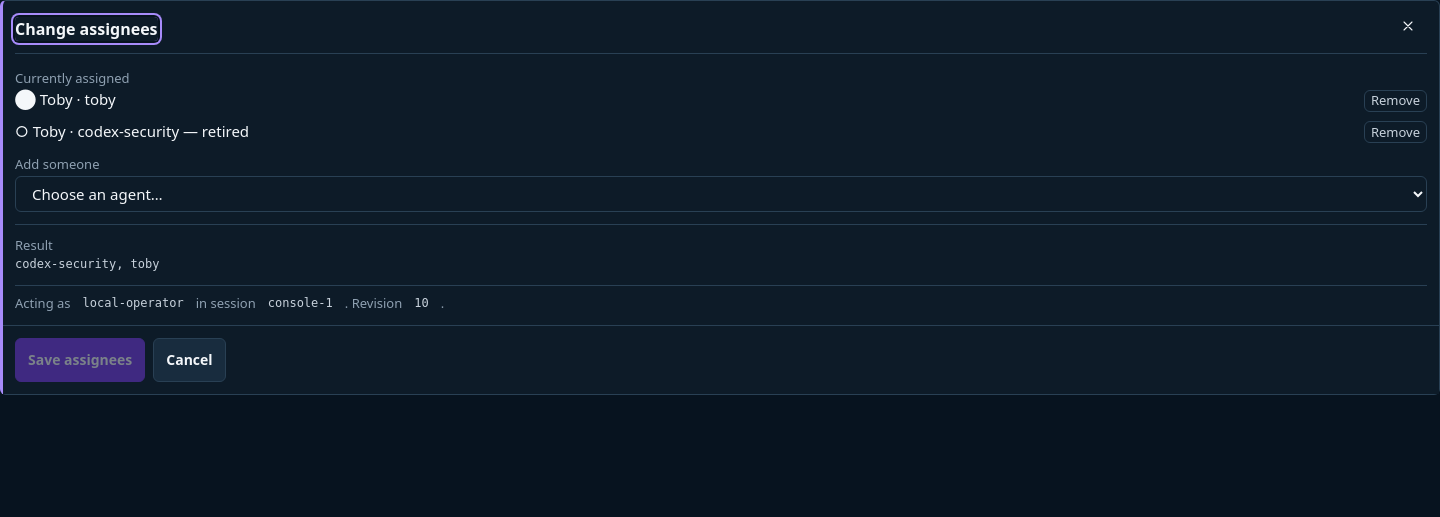
Test: AssigneeEditor — clause 6, errors › preserves the draft and offers Reload latest on a stale revision
Click the button "Remove" in the row of "Toby · codex-security — retired".
click(1395, 132)  # box [1364,121,1427,143]
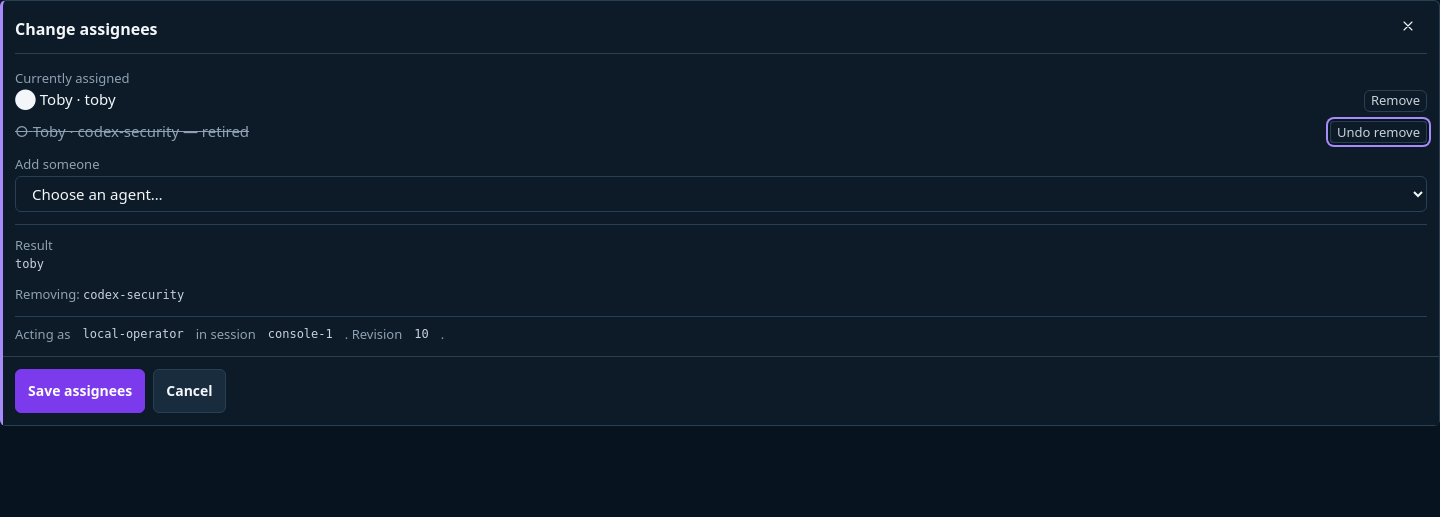
Click the button "Save assignees".
click(80, 391)  # box [15,369,145,413]
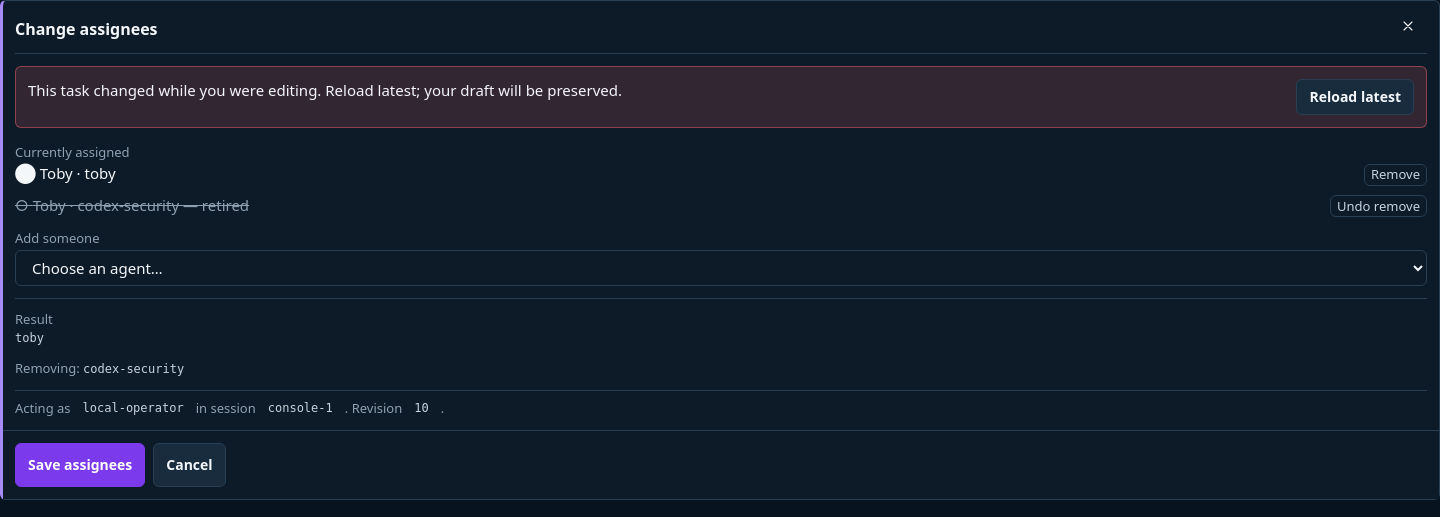
Check: the message is shown, box [15,66,1427,128]
Check: the text "This task changed while you were editing" is shown, box [28,80,622,100]
Check: the button "Reload latest" is shown, box [1296,79,1414,115]
